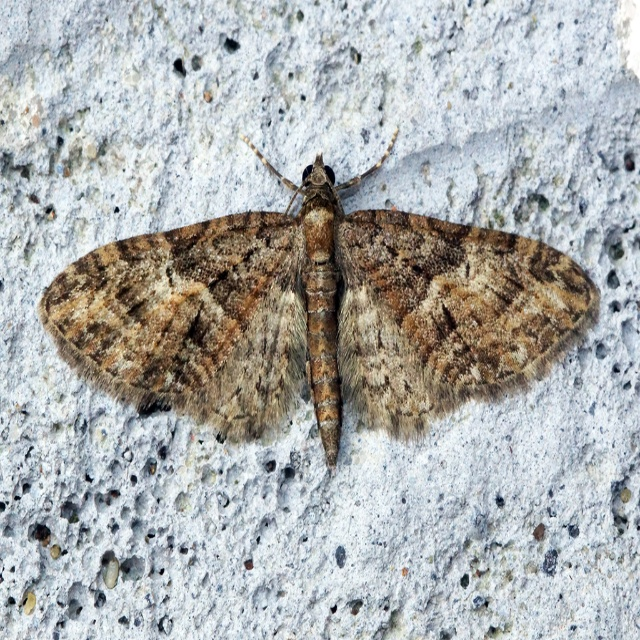Moths and butterflies: (37, 133, 604, 473)
